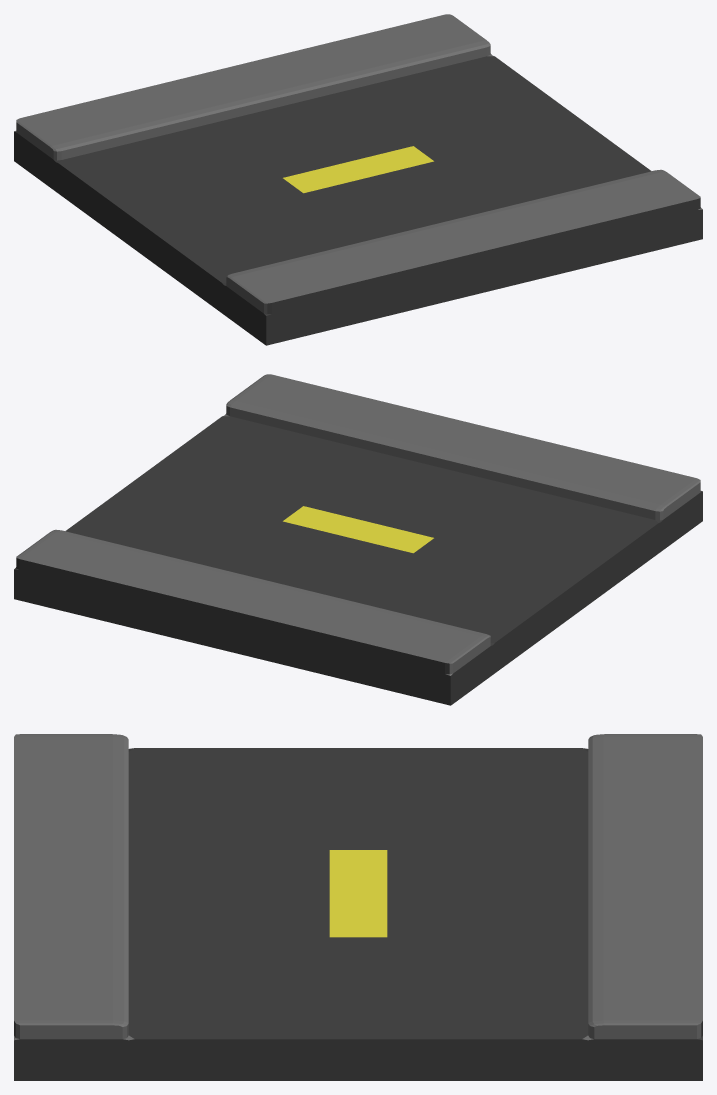
File: road_path.glb
3 views of the same model, one above another, from view 1: azimuth 30°, elevation 25°; view 2: azimuth 150°, elevation 25°; view 3: azimuth 270°, elevation 25° (orthographic). The views are drawn at different scales.
Parts seen in each view (by area): view 1: road1; view 2: road1; view 3: road1.
Boxes of the visible parts, x1,y1,x2,y2 form: road1: (14, 14, 702, 345); road1: (14, 374, 702, 705); road1: (14, 734, 702, 1080).
Size of the model in its own units: 3 by 0.2721 by 3.
